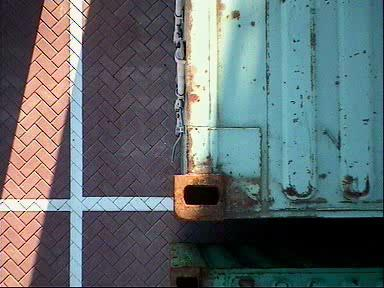groundmarker_2: (180, 149, 233, 222)
